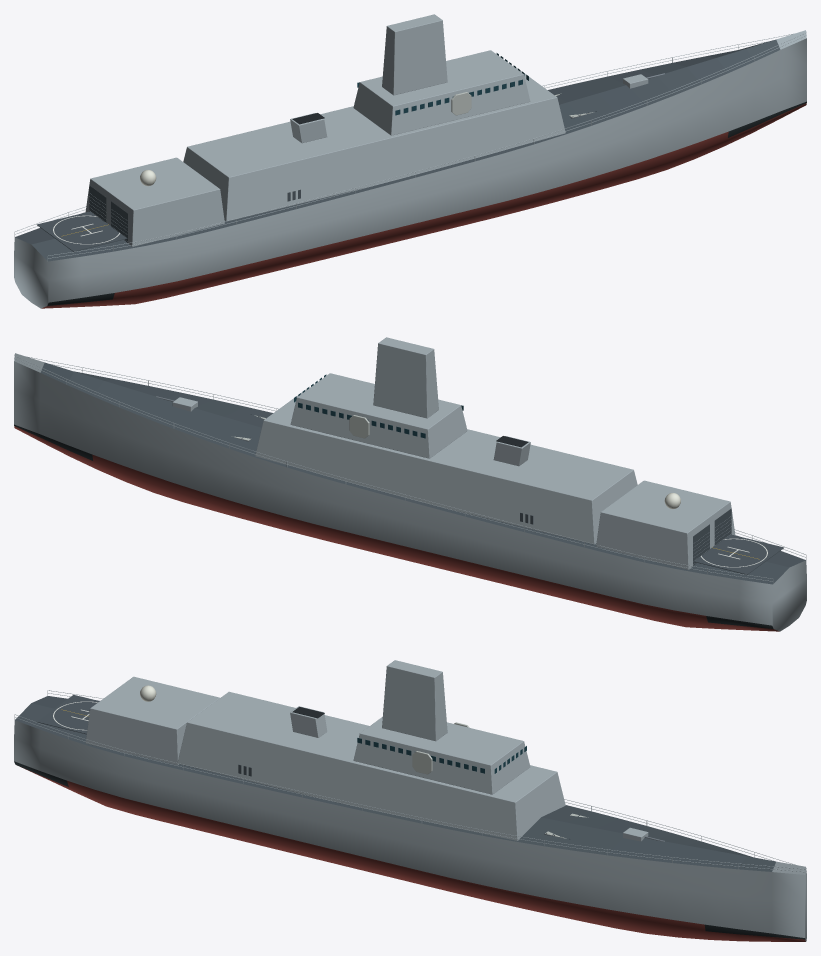
Rendered from usn_ffg_constellation.glb.
3 views of the same model, one above another, from view 1: azimuth 30°, elevation 25°; view 2: azimuth 150°, elevation 25°; view 3: azimuth 330°, elevation 25° (orthographic).
Visible parts, largest first — view 1: usn_ffg_constellation; view 2: usn_ffg_constellation; view 3: usn_ffg_constellation.
Boxes of the visible parts, x1,y1,x2,y2 form: usn_ffg_constellation: (14,14,806,308); usn_ffg_constellation: (14,337,806,631); usn_ffg_constellation: (14,660,806,941).
Size of the model in its own units: 10 by 2.49 by 1.25.
